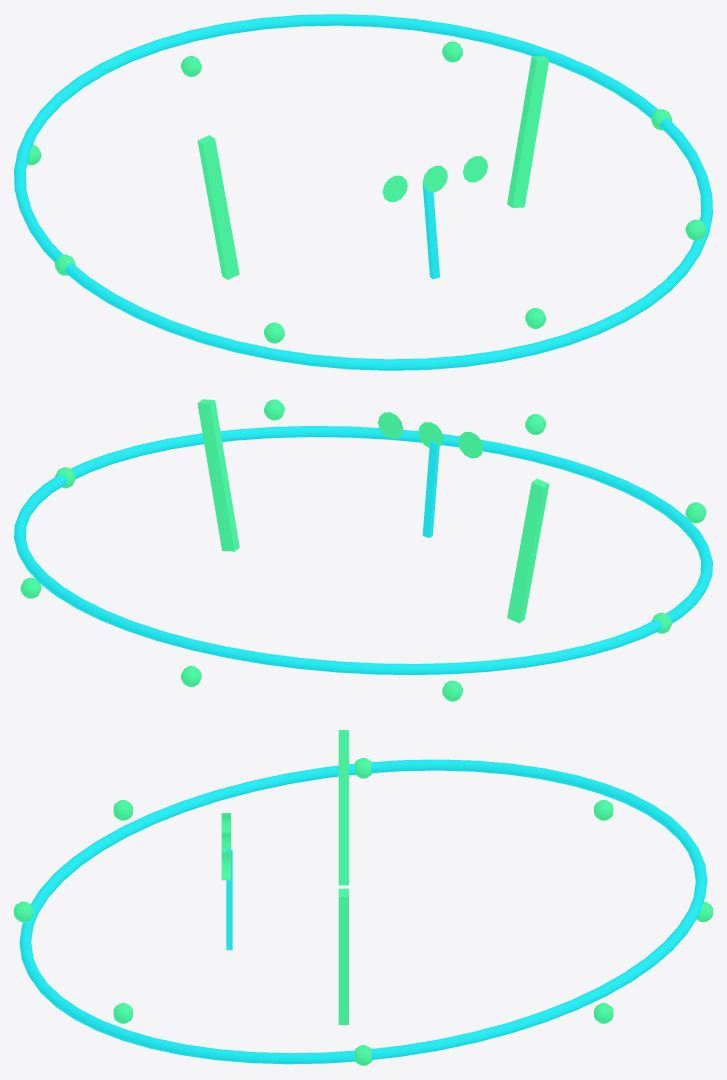
Rendered from avatar-verdejante-kit-operador.glb.
3 renders of one model, top to bottom at view 1: azimuth 30°, elevation 25°; view 2: azimuth 150°, elevation 25°; view 3: azimuth 270°, elevation 25°, orthographic.
Visible parts, largest first — view 1: kit_verdejante_operador_flowRing, kit_verdejante_operador_veinL, kit_verdejante_operador_veinR, kit_verdejante_operador_torsoVein; view 2: kit_verdejante_operador_flowRing, kit_verdejante_operador_veinL, kit_verdejante_operador_veinR, kit_verdejante_operador_torsoVein, kit_verdejante_operador_seq0, kit_verdejante_operador_seq2; view 3: kit_verdejante_operador_flowRing, kit_verdejante_operador_veinR, kit_verdejante_operador_veinL, kit_verdejante_operador_torsoVein.
Boxes of the visible parts, left/top/right/bottom form: kit_verdejante_operador_flowRing: left=14, top=14, right=712, bottom=370; kit_verdejante_operador_veinL: left=507, top=56, right=549, bottom=207; kit_verdejante_operador_veinR: left=197, top=135, right=239, bottom=279; kit_verdejante_operador_torsoVein: left=422, top=183, right=439, bottom=279; kit_verdejante_operador_flowRing: left=14, top=426, right=712, bottom=674; kit_verdejante_operador_veinL: left=197, top=399, right=239, bottom=551; kit_verdejante_operador_veinR: left=507, top=478, right=549, bottom=623; kit_verdejante_operador_torsoVein: left=422, top=441, right=439, bottom=537; kit_verdejante_operador_seq0: left=458, top=430, right=483, bottom=458; kit_verdejante_operador_seq2: left=378, top=411, right=402, bottom=438; kit_verdejante_operador_flowRing: left=19, top=759, right=707, bottom=1064; kit_verdejante_operador_veinR: left=338, top=730, right=348, bottom=885; kit_verdejante_operador_veinL: left=338, top=888, right=348, bottom=1024; kit_verdejante_operador_torsoVein: left=226, top=849, right=232, bottom=950.
Size of the model in its own units: 1.07 by 0.2401 by 1.07.
